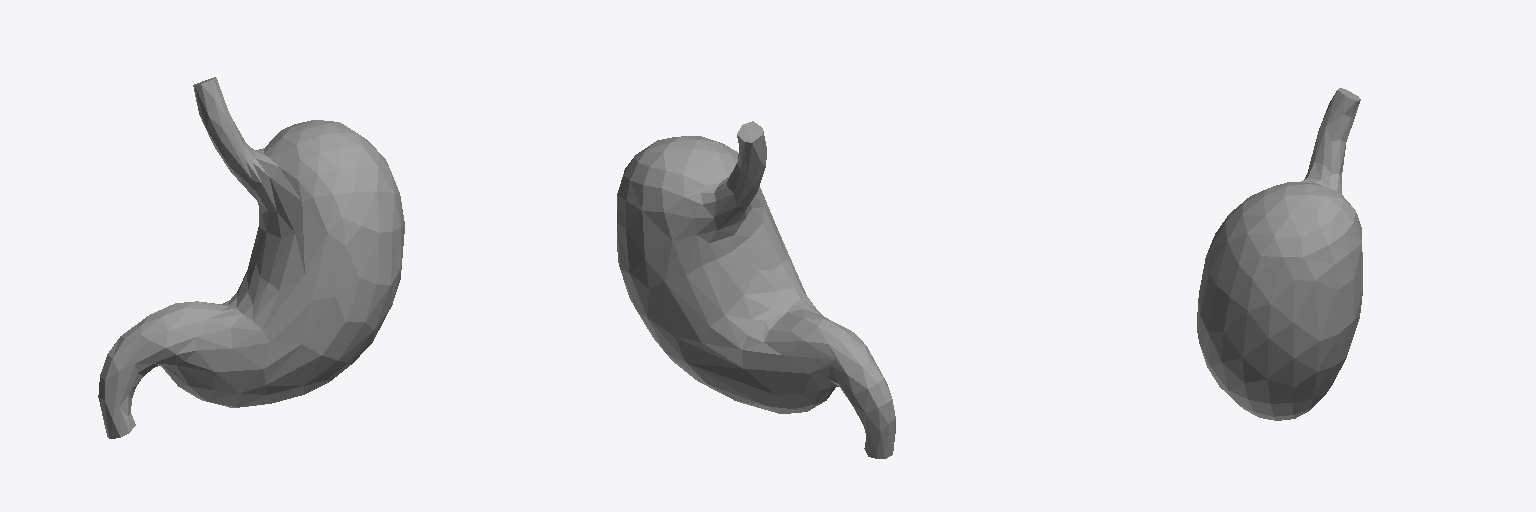
The model's file is organs_stomach_collision.obj.
3 renders of one model, left to right at view 1: azimuth 30°, elevation 25°; view 2: azimuth 150°, elevation 25°; view 3: azimuth 270°, elevation 25°, orthographic.
Visible parts, largest first — view 1: stomac_organs_polySurface1.007; view 2: stomac_organs_polySurface1.007; view 3: stomac_organs_polySurface1.007.
Boxes of the visible parts, x1=… form: stomac_organs_polySurface1.007: x1=98, y1=77, x2=404, y2=438; stomac_organs_polySurface1.007: x1=617, y1=121, x2=895, y2=458; stomac_organs_polySurface1.007: x1=1197, y1=88, x2=1362, y2=420.
Size of the model in its own units: 11.35 by 12.37 by 5.88.